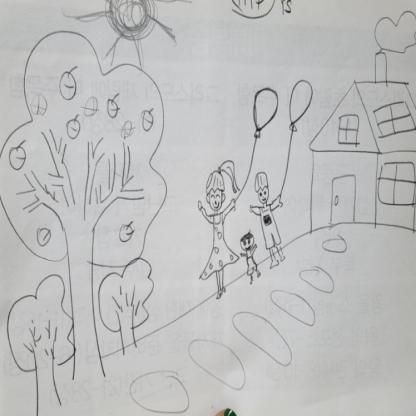apple: (59, 63, 78, 101), (8, 140, 28, 172), (66, 114, 81, 141), (106, 90, 120, 117), (117, 221, 132, 242), (140, 106, 153, 130), (36, 226, 50, 247)
branch_cut: (27, 130, 145, 238)
crown_cloud: (0, 34, 168, 264)
trunk_straight: (66, 262, 102, 358)
